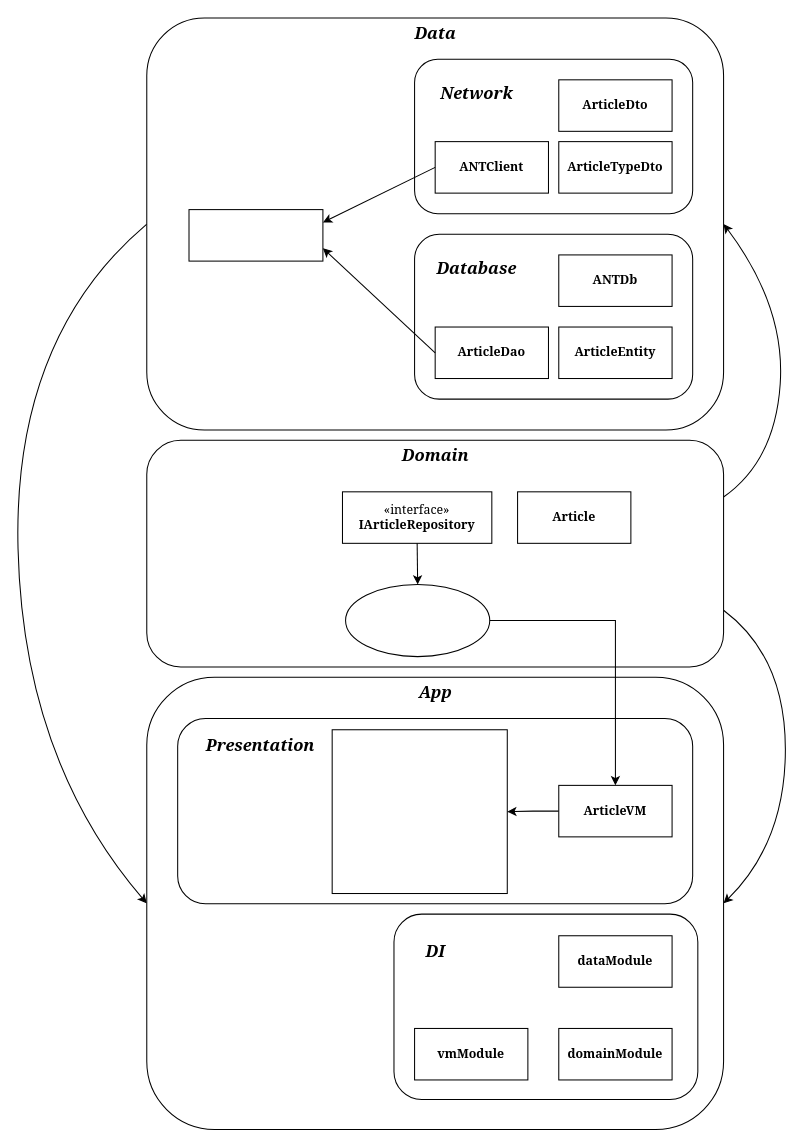
Image size: 804x1147. Some labels were removed from this diagram. Each missing label, with the centre of its shape:
ArticleRepository: point 255,235
GetArticlesUseCase: point 417,620
User interface: point 419,811
